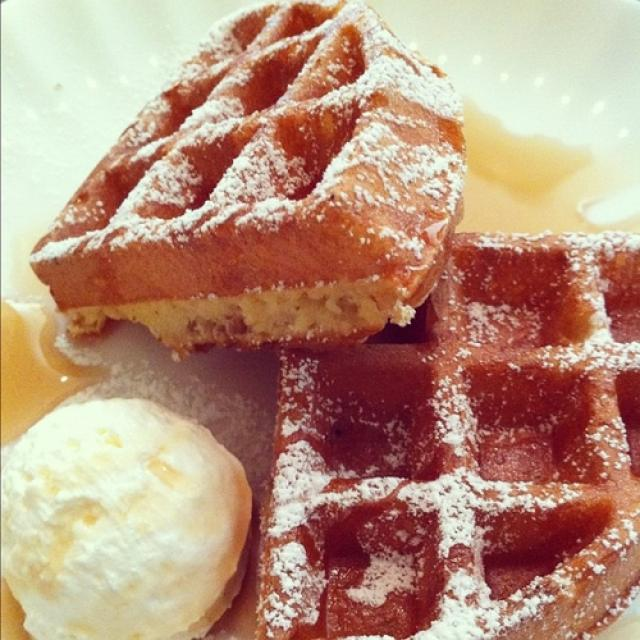炸货点心: (11, 10, 634, 631)
蛋糕甜品: (11, 10, 634, 631)
